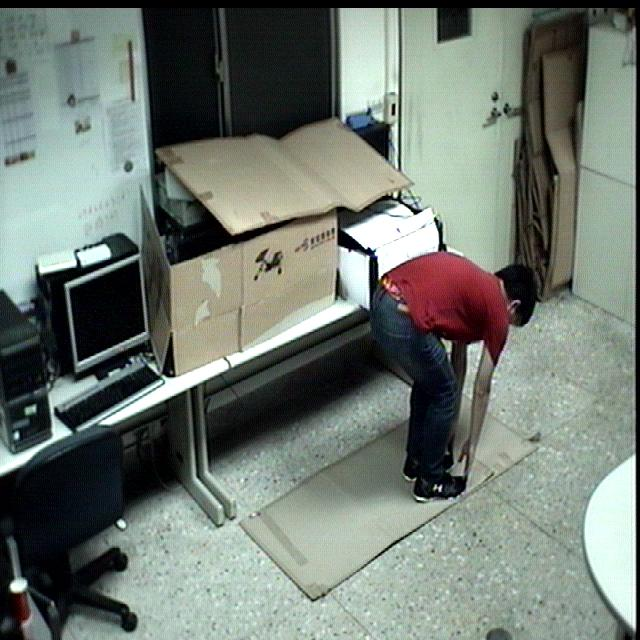bend: (358, 238, 545, 511)
